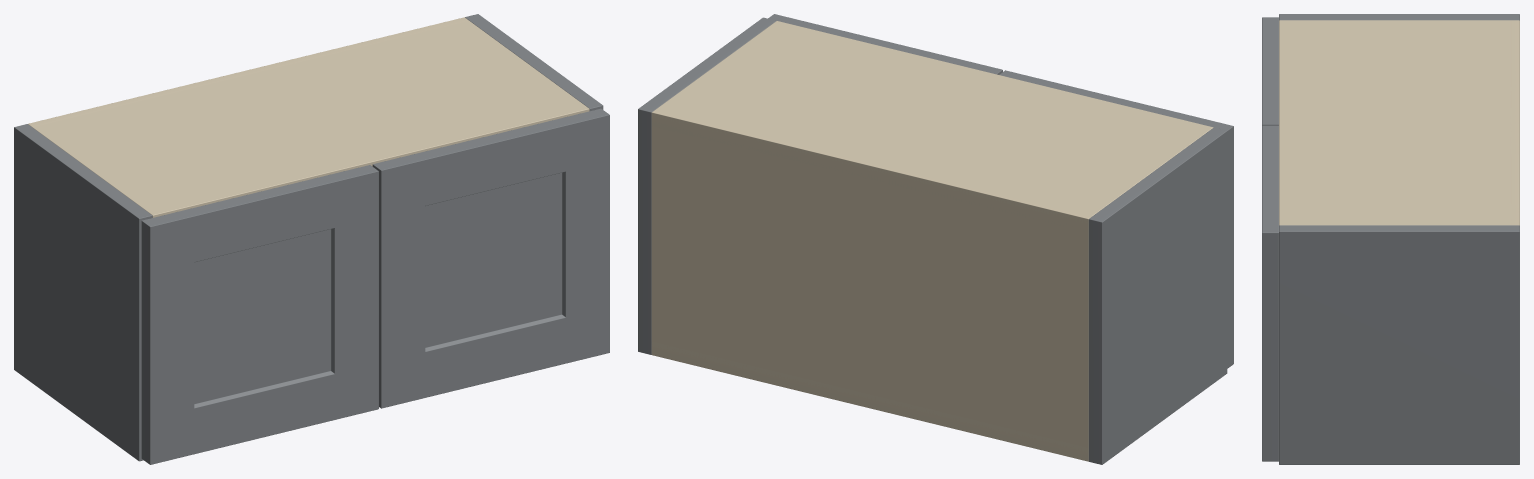
Rendered from oppein-ply-gss-w2412.glb.
3 views of the same model, side by side, from view 1: azimuth 30°, elevation 25°; view 2: azimuth 150°, elevation 25°; view 3: azimuth 270°, elevation 25° (orthographic). The views are drawn at different scales.
Visible parts, largest first — view 1: Door, Door.001, Cabinet top, Cabinet side, Cabinet back, Cabinet side.001; view 2: Cabinet back, Cabinet top, Cabinet side, Cabinet bottom, Cabinet side.001, Door, Door.001; view 3: Cabinet side.001, Cabinet top, Door.001, Cabinet back, Door, Cabinet side.
Boxes of the visible parts, x1=… form: Door: x1=141, y1=165, x2=378, y2=464; Door.001: x1=372, y1=108, x2=609, y2=408; Cabinet top: x1=33, y1=18, x2=589, y2=217; Cabinet side: x1=14, y1=124, x2=152, y2=461; Cabinet back: x1=28, y1=17, x2=468, y2=127; Cabinet side.001: x1=465, y1=14, x2=603, y2=110; Cabinet back: x1=651, y1=109, x2=1093, y2=461; Cabinet top: x1=651, y1=21, x2=1213, y2=231; Cabinet side: x1=1088, y1=127, x2=1227, y2=464; Cabinet bottom: x1=651, y1=341, x2=1088, y2=460; Cabinet side.001: x1=638, y1=17, x2=776, y2=354; Door: x1=999, y1=70, x2=1233, y2=368; Door.001: x1=768, y1=14, x2=1002, y2=74; Cabinet side.001: x1=1279, y1=225, x2=1519, y2=464; Cabinet top: x1=1279, y1=20, x2=1519, y2=225; Door.001: x1=1262, y1=125, x2=1278, y2=461; Cabinet back: x1=1510, y1=20, x2=1519, y2=225; Door: x1=1262, y1=17, x2=1278, y2=125; Cabinet side: x1=1279, y1=14, x2=1519, y2=20.
Size of the model in its own units: 0.6096 by 0.3048 by 0.3048.
